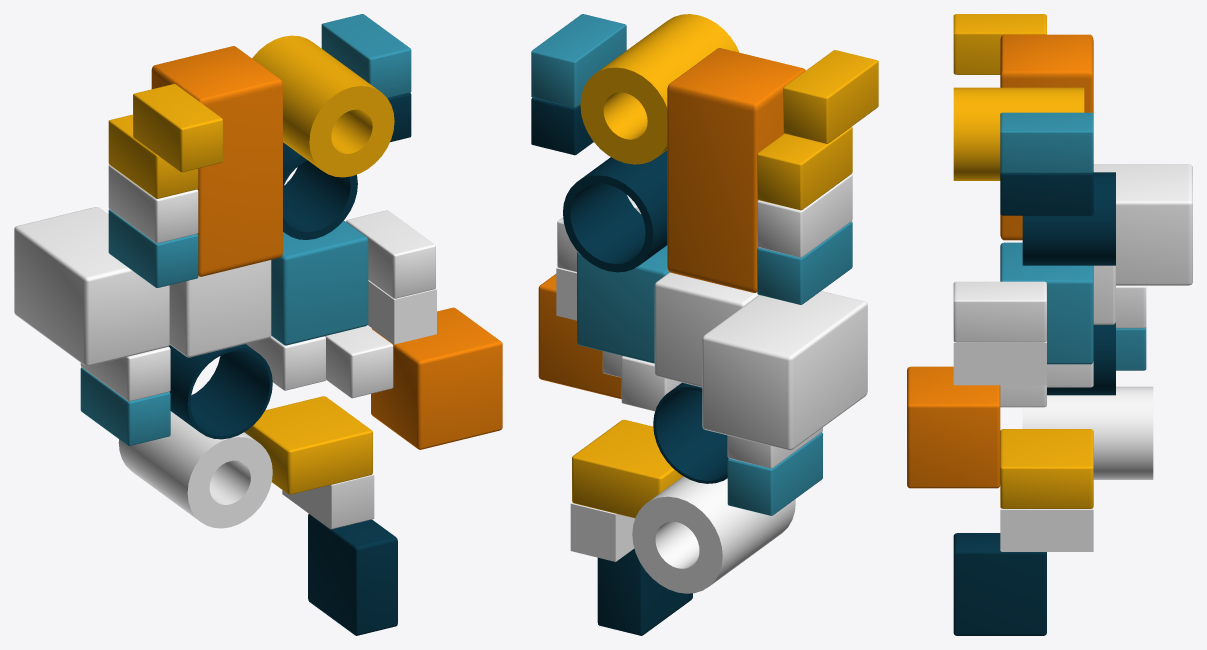
Rendered from kotakotak.glb.
3 renders of one model, left to right at view 1: azimuth 30°, elevation 25°; view 2: azimuth 150°, elevation 25°; view 3: azimuth 270°, elevation 25°, orthographic. The views are drawn at different scales.
Parts seen in each view (by area): view 1: Cube.013, Cube.010, Cube.005, Cylinder.003, Cylinder, Cube.008, Cube, Cube.002, Cube.009, Cylinder.001, Cube.017, Cube.007 (+12 smaller); view 2: Cube.013, Cube.010, Cylinder.003, Cylinder, Cylinder.002, Cube.008, Cube.002, Cube.009, Cube.017, Cube.019, Cube.016, Cylinder.001 (+11 smaller); view 3: Cube.005, Cube.010, Cube, Cylinder, Cube.002, Cylinder.003, Cube.008, Cube.013, Cube.019, Cube.007, Cylinder.002, Cube.006 (+9 smaller).
Part boxes in pixels (x1,y1,x2,y2): Cube.013: [151, 46, 282, 276]; Cube.010: [14, 207, 169, 366]; Cube.005: [371, 307, 502, 449]; Cylinder.003: [252, 35, 394, 177]; Cylinder: [118, 394, 272, 528]; Cube.008: [271, 220, 368, 345]; Cube: [308, 514, 397, 635]; Cube.002: [244, 396, 372, 494]; Cube.009: [169, 260, 271, 357]; Cylinder.001: [168, 344, 272, 439]; Cube.017: [133, 84, 222, 172]; Cube.007: [346, 210, 435, 298]; Cube.013: [667, 48, 805, 292]; Cube.010: [702, 291, 867, 450]; Cylinder.003: [580, 14, 739, 164]; Cylinder: [632, 476, 795, 593]; Cylinder.002: [563, 150, 667, 272]; Cube.008: [577, 245, 669, 363]; Cube.002: [572, 419, 682, 518]; Cube.009: [654, 272, 758, 387]; Cube.017: [783, 50, 878, 143]; Cube.019: [531, 14, 626, 107]; Cube.016: [757, 127, 852, 210]; Cylinder.001: [653, 382, 728, 483]; Cube.005: [907, 366, 1000, 488]; Cube.010: [1093, 164, 1192, 285]; Cube: [953, 533, 1046, 635]; Cylinder: [1022, 386, 1153, 479]; Cube.002: [1000, 429, 1093, 508]; Cylinder.003: [953, 87, 1084, 180]; Cube.008: [1000, 242, 1093, 364]; Cube.013: [1000, 34, 1093, 240]; Cube.019: [1000, 112, 1093, 173]; Cube.007: [953, 281, 1046, 342]; Cylinder.002: [1022, 172, 1115, 265]; Cube.006: [953, 341, 1046, 385].
Bounding box in the file's own units: 1.58 × 2.44 × 1.21.
